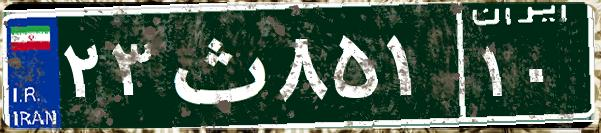0: (525, 38, 570, 115)
1: (385, 28, 445, 110), (475, 38, 525, 113)
2: (57, 26, 110, 107)
3: (110, 28, 158, 105)
5: (330, 28, 385, 110)
8: (273, 28, 330, 110)
ث: (158, 15, 273, 115)
